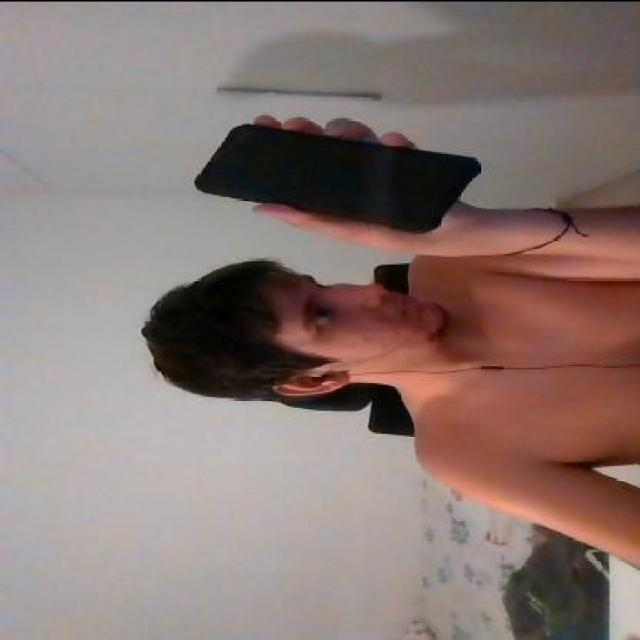phone: (193, 117, 476, 231)
